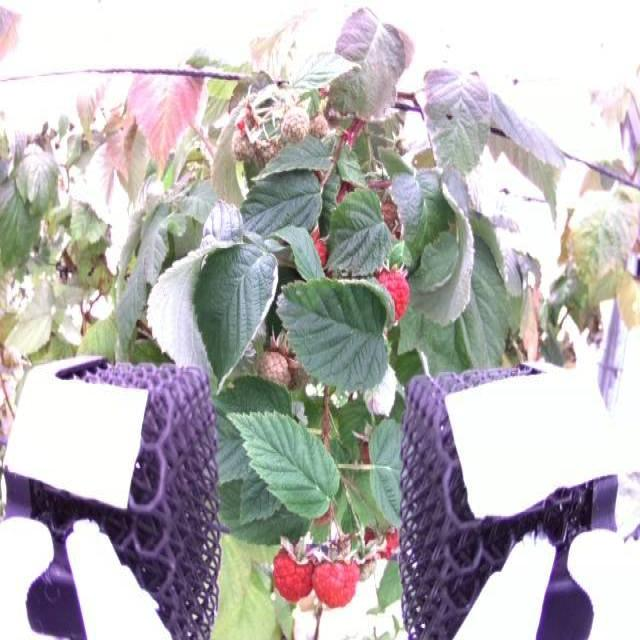Riped berries: (314, 542, 359, 610), (271, 539, 313, 603), (375, 265, 416, 324), (362, 513, 399, 565)
